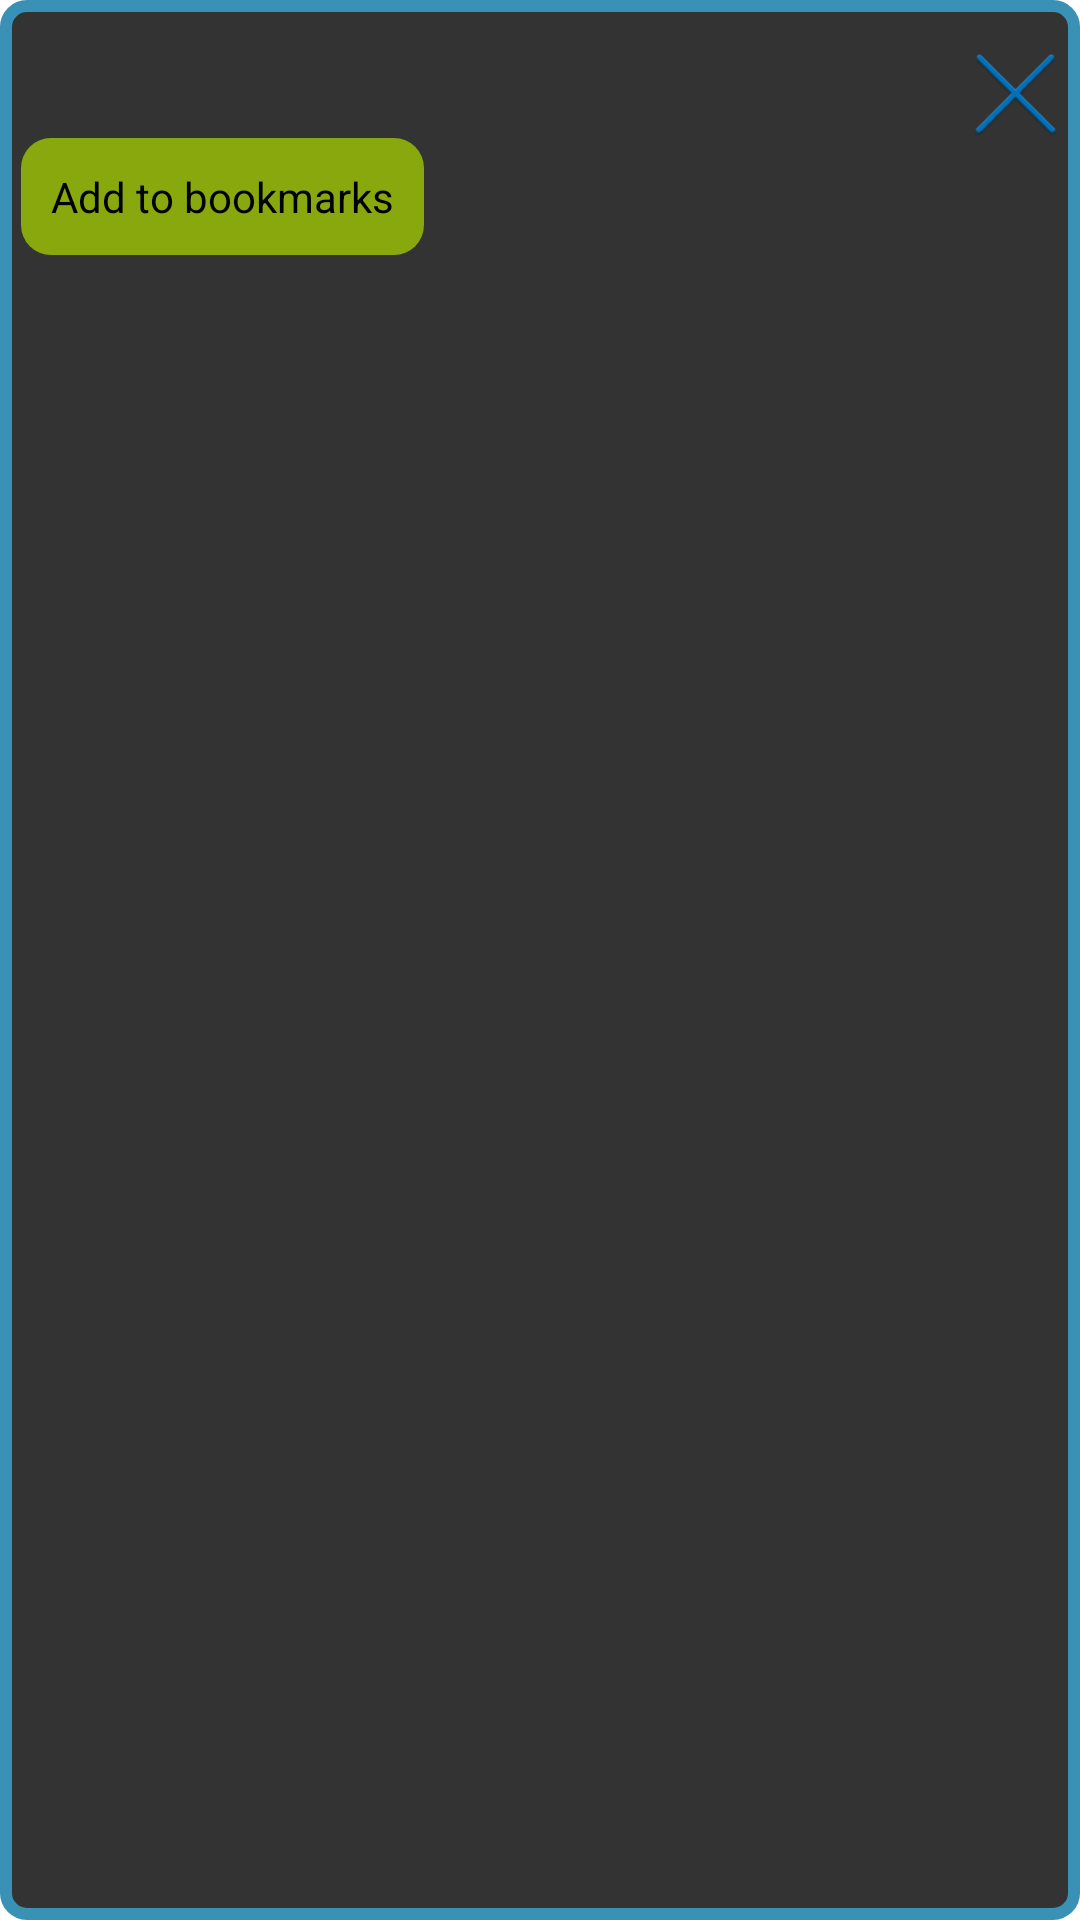

Screen size 1080 x 1920. Icon name, then its center in pixels as [x,y]:
close: [1015,94]
